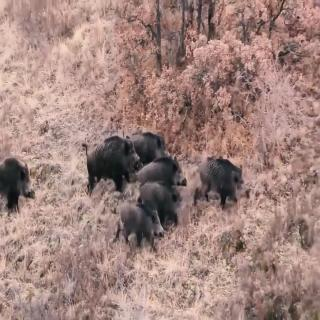Pig: (78, 119, 140, 191), (194, 143, 242, 209), (115, 194, 163, 260), (0, 142, 41, 210), (131, 121, 172, 159), (133, 177, 173, 212), (141, 152, 186, 183)
